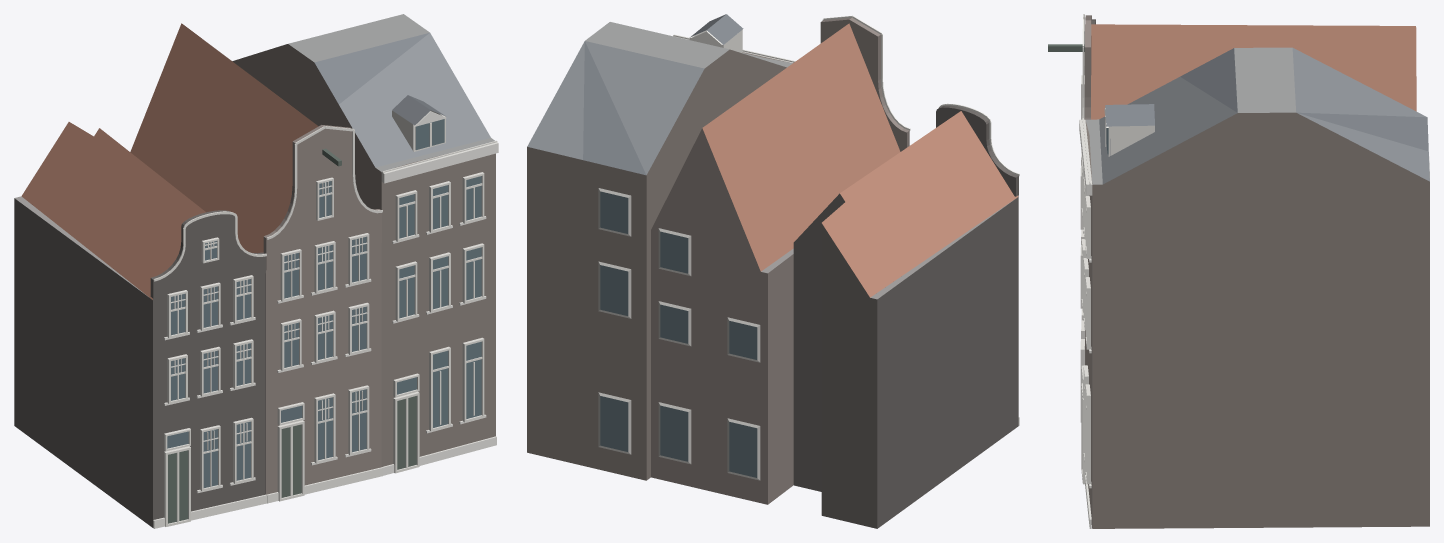
Rendered from chunk-face-egelantiersgracht-47-101-h1.glb.
3 renders of one model, left to right at view 1: azimuth 30°, elevation 25°; view 2: azimuth 150°, elevation 25°; view 3: azimuth 270°, elevation 25°, orthographic. The views are drawn at different scales.
Parts seen in each view (by area): view 1: face-egelantiersgracht-47-101-h1; view 2: face-egelantiersgracht-47-101-h1; view 3: face-egelantiersgracht-47-101-h1.
Boxes of the visible parts, x1,y1,x2,y2 form: face-egelantiersgracht-47-101-h1: (14, 14, 498, 528); face-egelantiersgracht-47-101-h1: (527, 14, 1019, 528); face-egelantiersgracht-47-101-h1: (1048, 14, 1429, 528).
Bounding box in the file's own units: 13.08 × 13.3 × 11.1.
